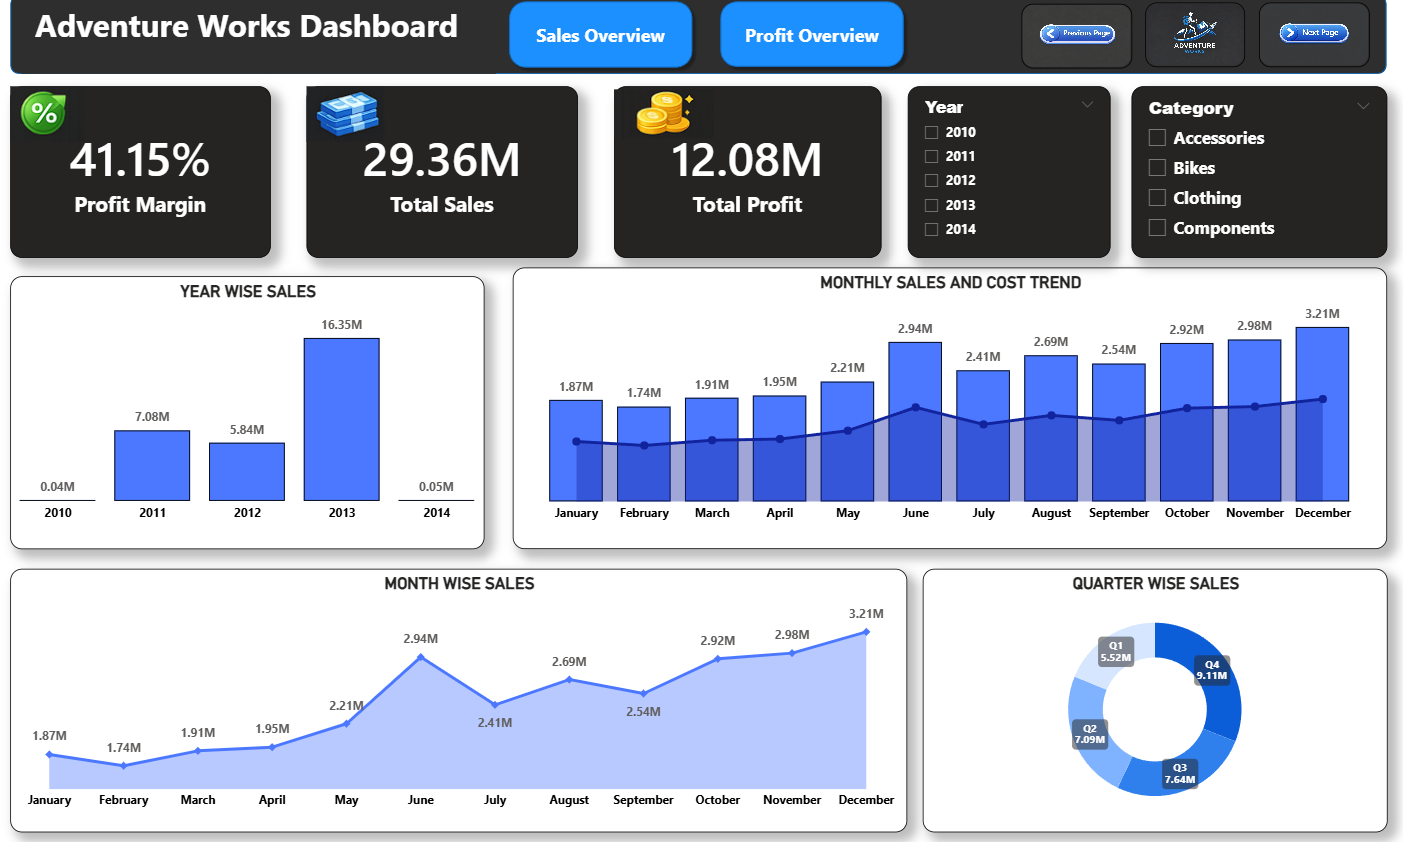

The dashboard page shown, as its layout file describes it:
{"tool":"tableau","page":{"name":"Dashboard 1","canvas":[1000,1000],"units":"permille","ordinal":0},"visuals":[{"type":"title","box":[4.8,8.7,990.3,83.6]},{"type":"image","param":"Image/ChatGPT Image Dec 29, 2025, 03_20_57 PM.png","box":[135.2,15.2,69.4,68.4]},{"type":"worksheet","title":"KPI-1","mark":"Text","box":[4.8,92.3,136.2,137.9]},{"type":"worksheet","title":"Yearwise Sales","mark":"Bar","rows":["Calculation_0649008227635200"],"cols":["Calculation_1408771295559681"],"box":[141.1,92.3,298,482.7]},{"type":"worksheet","title":"Top Customers","mark":"Automatic","rows":["Customer Full Name"],"box":[439.1,92.3,257.2,482.7]},{"type":"worksheet","title":"Monthly sales & Cost trend","mark":"Automatic","rows":["Calculation_1408771295559681","Calculation_0649008234512395"],"cols":["Calculation_0649008227635200"],"box":[696.3,92.3,298.9,899]},{"type":"worksheet","title":"KPI-2","mark":"Automatic","rows":["Calculation_1408771295559681"],"cols":["Calculation_0649008229273603"],"box":[4.8,230.2,136.2,88.6]},{"type":"worksheet","title":"KPI-3","mark":"Text","box":[4.8,318.8,136.2,154.2]},{"type":"filter","title":"Yearwise Sales","param":"[federated.039j6q5122f1bs16p8skw0r28obf].[none:SalesTerritoryGroup:nk]","box":[4.8,473,136.2,171.6]},{"type":"worksheet","title":"Monthwise Sales","mark":"Line","rows":["Calculation_1408771295559681"],"cols":["Calculation_0649008229273603"],"box":[141.1,575,298,416.3]},{"type":"worksheet","title":"Quarter Wise","mark":"Pie","box":[439.1,575,257.2,416.3]},{"type":"filter","title":"Top Customers","param":"[federated.039j6q5122f1bs16p8skw0r28obf].[yr:Calculation_0649008227635200:ok]","box":[4.8,644.5,136.2,200.9]},{"type":"parameter","param":"[Parameters].[Parameter 1]","box":[4.8,845.4,136.2,145.9]}]}

Visuals, with their boxes on the dashboard's canvas, which has no fixed pixel size, in thousandths of its width and height (x1, y1, x2, y2). These are canvas units, not pixel positions in the 1403x842 screenshot, which may show the page scaled, cropped or inside an application window:
title: left=5, top=9, right=995, bottom=92
image: left=135, top=15, right=205, bottom=84
"KPI-1" worksheet (Text marks): left=5, top=92, right=141, bottom=230
"Yearwise Sales" worksheet (Bar marks): left=141, top=92, right=439, bottom=575
"Top Customers" worksheet: left=439, top=92, right=696, bottom=575
"Monthly sales & Cost trend" worksheet: left=696, top=92, right=995, bottom=991
"KPI-2" worksheet: left=5, top=230, right=141, bottom=319
"KPI-3" worksheet (Text marks): left=5, top=319, right=141, bottom=473
"Yearwise Sales" filter: left=5, top=473, right=141, bottom=645
"Monthwise Sales" worksheet (Line marks): left=141, top=575, right=439, bottom=991
"Quarter Wise" worksheet (Pie marks): left=439, top=575, right=696, bottom=991
"Top Customers" filter: left=5, top=644, right=141, bottom=845
parameter: left=5, top=845, right=141, bottom=991
